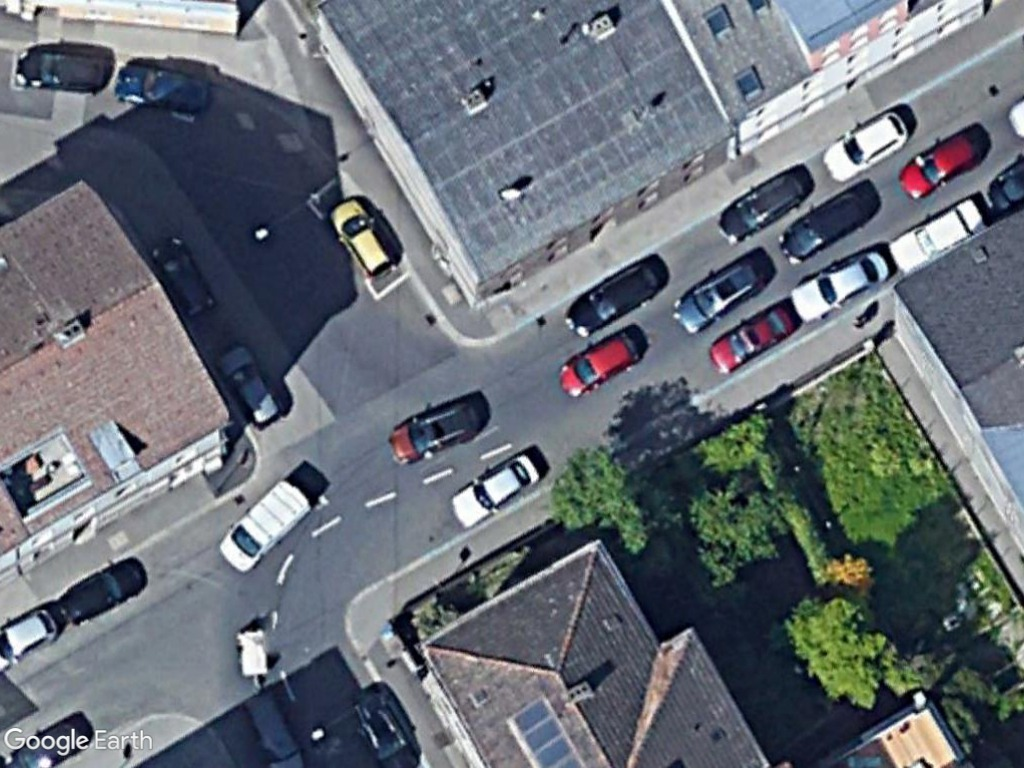car: (714, 160, 818, 246), (559, 259, 668, 338), (786, 248, 895, 326), (667, 255, 771, 336), (445, 448, 543, 533), (774, 185, 875, 266), (384, 392, 483, 470), (886, 198, 983, 277), (819, 110, 917, 184), (704, 303, 799, 377), (552, 330, 650, 401), (56, 552, 147, 628), (894, 128, 988, 200), (212, 341, 285, 431), (147, 232, 219, 321), (112, 56, 215, 114), (327, 195, 394, 282), (9, 46, 111, 95)
van: (214, 473, 313, 576)
